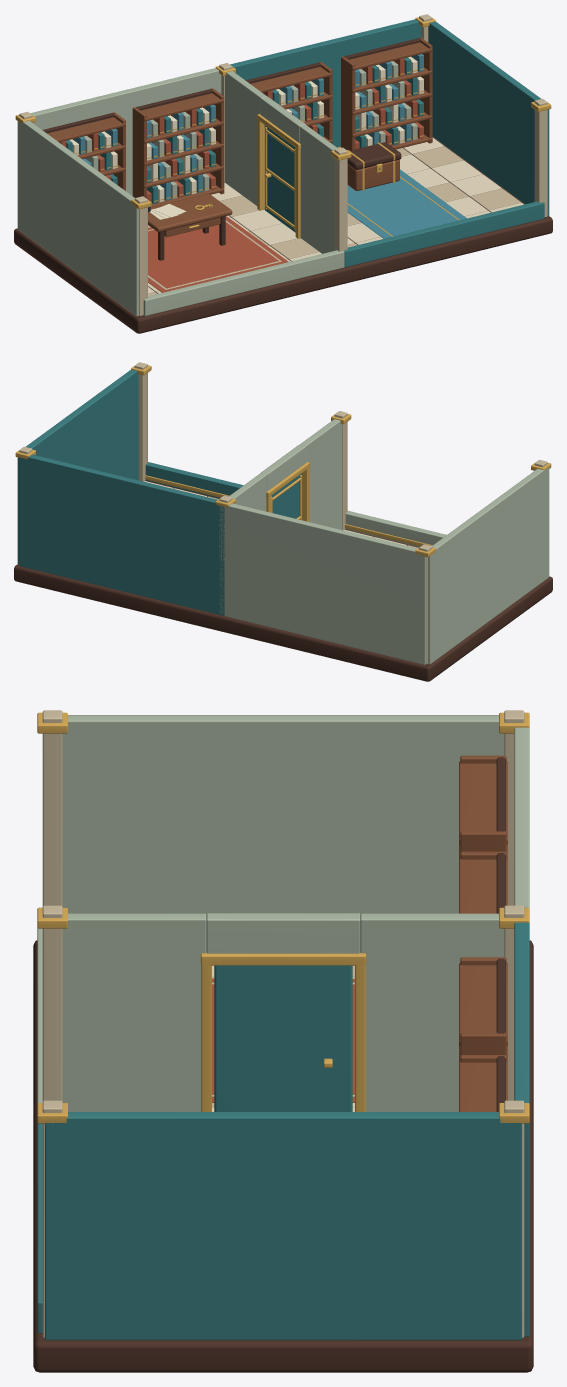
Rendered from library.glb.
3 renders of one model, top to bottom at view 1: azimuth 30°, elevation 25°; view 2: azimuth 150°, elevation 25°; view 3: azimuth 270°, elevation 25°, orthographic. The views are drawn at different scales.
Visible parts, largest first — view 1: west_wall, east_wall, foundation, west_rug_field, back_east, east_runner, back_west, divider_front, front_west, front_east, divider_back, door_panel (+43 smaller); view 2: back_west, back_east, west_wall, foundation, east_wall, divider_front, front_west, front_east, pillar_6_-3, door_lintel, divider_back, door_panel (+3 smaller); view 3: east_wall, west_wall, divider_front, divider_back, foundation, door_panel, door_lintel, back_east, pillar_0_-3, pillar_-6_-3, back_west, shelf_-4.6_4 (+14 smaller).
Part boxes in pixels (x1=…): west_wall: x1=17, y1=120, x2=138, y2=316; east_wall: x1=428, y1=21, x2=549, y2=215; foundation: x1=14, y1=137, x2=552, y2=333; west_rug_field: x1=148, y1=222, x2=278, y2=288; back_east: x1=230, y1=19, x2=421, y2=147; east_runner: x1=347, y1=169, x2=466, y2=238; back_west: x1=30, y1=68, x2=221, y2=195; divider_front: x1=299, y1=125, x2=337, y2=253; front_west: x1=143, y1=250, x2=344, y2=315; front_east: x1=344, y1=201, x2=544, y2=267; divider_back: x1=225, y1=71, x2=266, y2=205; door_panel: x1=264, y1=125, x2=295, y2=232; back_west: x1=219, y1=503, x2=426, y2=664; back_east: x1=19, y1=454, x2=224, y2=615; west_wall: x1=428, y1=467, x2=549, y2=664; foundation: x1=14, y1=480, x2=552, y2=681; east_wall: x1=17, y1=369, x2=138, y2=563; divider_front: x1=300, y1=419, x2=341, y2=529; front_west: x1=345, y1=510, x2=446, y2=547; front_east: x1=145, y1=462, x2=243, y2=498; pillar_6_-3: x1=134, y1=362, x2=147, y2=481; door_lintel: x1=261, y1=444, x2=305, y2=490; divider_back: x1=229, y1=473, x2=267, y2=511; door_panel: x1=271, y1=473, x2=302, y2=518; east_wall: x1=45, y1=1112, x2=521, y2=1340; west_wall: x1=62, y1=715, x2=504, y2=914; divider_front: x1=62, y1=913, x2=206, y2=1111; divider_back: x1=360, y1=913, x2=504, y2=1111; foundation: x1=33, y1=940, x2=533, y2=1372; door_panel: x1=214, y1=965, x2=352, y2=1111; door_lintel: x1=206, y1=913, x2=360, y2=953; back_east: x1=514, y1=922, x2=529, y2=1336; pillar_0_-3: x1=42, y1=905, x2=62, y2=1101; pillar_-6_-3: x1=42, y1=710, x2=62, y2=906; back_west: x1=514, y1=727, x2=529, y2=908; shelf_-4.6_4: x1=459, y1=761, x2=507, y2=844.
Size of the model in its own units: 12.5 by 3.76 by 6.5.
